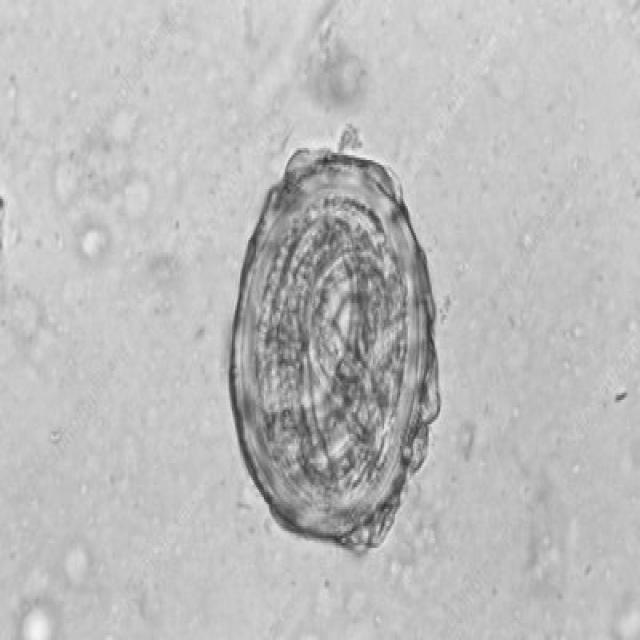Ascaris Lumbricoides: (215, 124, 452, 567)
